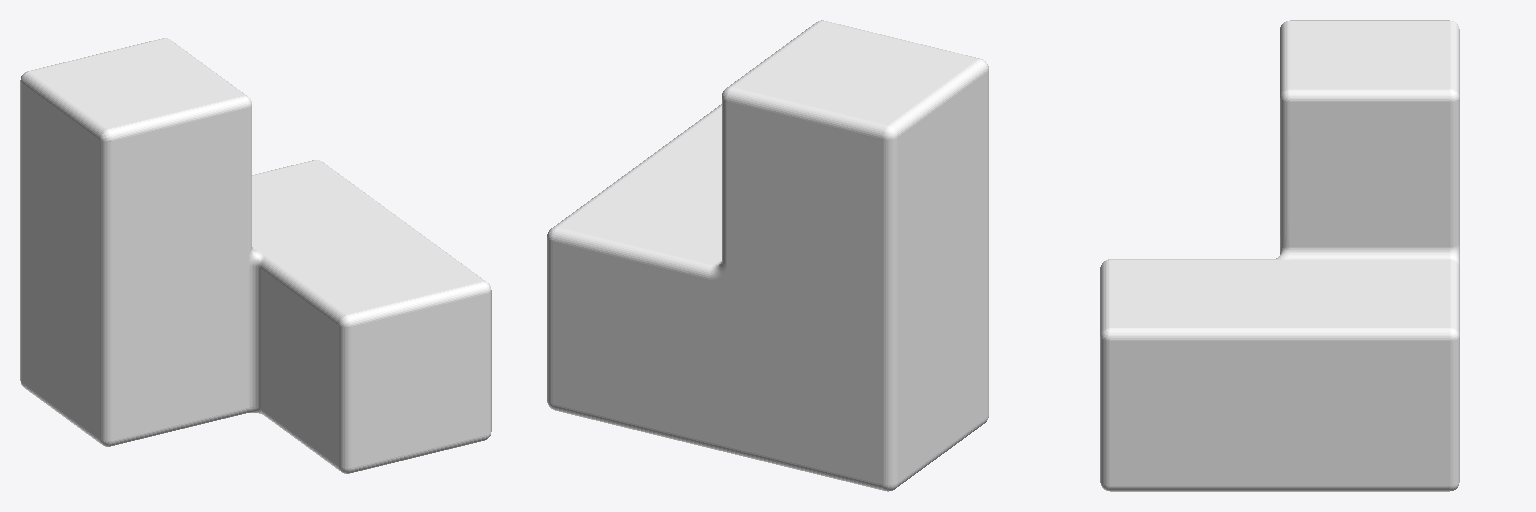
The robot description file, URDF, robot "cube7":
<robot name="cube7">
	<link name="baseLink">
    	<contact>
      		<lateral_friction value="0.5" />
      		<rolling_friction value="0.0" />
      		<contact_cfm value="0.0" />
      		<contact_erp value="1.0" />
    	</contact>
		<visual>
			<origin rpy="0.0 0.0 0.0" xyz="-1.1800000002420954 -0.3650573903371383 -0.13494260979103745" />
			<geometry>
				<mesh filename="cubes/cube7.obj" scale="0.01 0.01 0.01" />
			</geometry>
			<material name="texture">
				<color rgba="1.0 1.0 1.0 1.0" />
			</material>
		</visual>
		<collision>
			<origin rpy="0.0 0.0 0.0" xyz="-1.1800000002420954 -0.3650573903371383 -0.13494260979103745" />
			<geometry>
				<mesh filename="cubes/cube7_vhacd.obj" scale="0.01 0.01 0.01" />
			</geometry>
		</collision>
		<inertial>
			<origin rpy="0 0 0" xyz="0 0 0" />
			<mass value="0.5" />
			<inertia ixx="0.01" ixy="0.0" ixz="0.0" iyy="0.01" iyz="0.0" izz="0.01" />
		</inertial>
	</link>
</robot>

--- What the picture shows (computed from the rendered views, not written in the file) ---
Views: 3 orthographic renders of the robot side by side, from view 1: azimuth 30°, elevation 25°; view 2: azimuth 150°, elevation 25°; view 3: azimuth 270°, elevation 25°.
Model cube7 with 1 links and 0 joints (none), rooted at baseLink, posed every joint at zero.
Links seen in each view (by area): view 1: baseLink; view 2: baseLink; view 3: baseLink.
Link boxes in pixels (x1,y1,x2,y2): baseLink: [20, 38, 491, 473]; baseLink: [547, 20, 988, 491]; baseLink: [1100, 20, 1459, 491].
Size in the robot's own frame: 0.36 by 0.36 by 0.36 metres.
Meshes: 1 distinct files referenced, 1 mesh visuals loaded (1 OBJ).